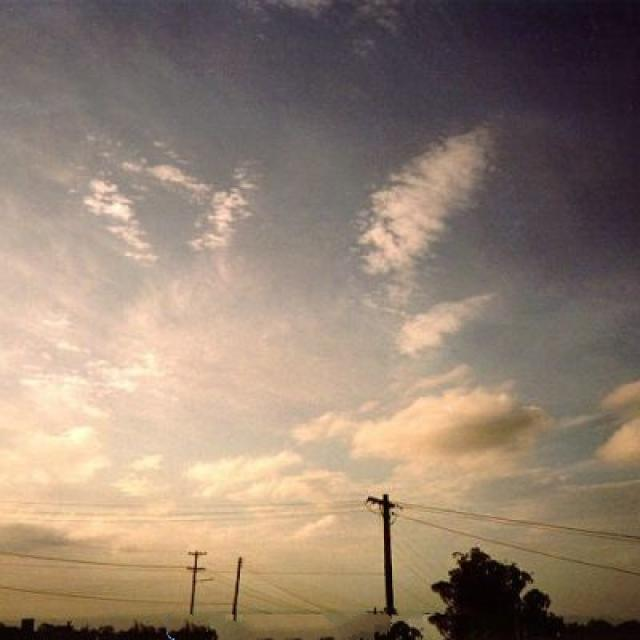Cs: (7, 92, 640, 468)
